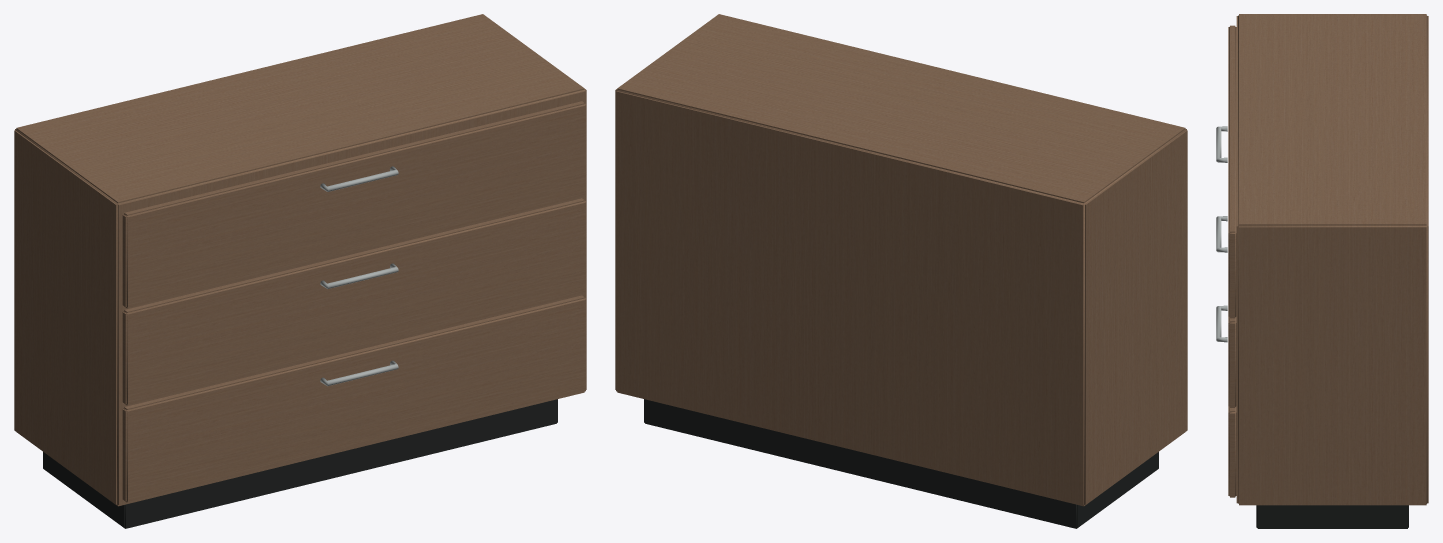
Rendered from industrial.dresser.gltf.
3 views of the same model, side by side, from view 1: azimuth 30°, elevation 25°; view 2: azimuth 150°, elevation 25°; view 3: azimuth 270°, elevation 25° (orthographic). The views are drawn at different scales.
Visible parts, largest first — view 1: industrial.dresser.carcass; view 2: industrial.dresser.carcass; view 3: industrial.dresser.carcass.
Part boxes in pixels (left/top/right/bottom): industrial.dresser.carcass: left=14, top=14, right=586, bottom=528; industrial.dresser.carcass: left=615, top=14, right=1187, bottom=528; industrial.dresser.carcass: left=1216, top=14, right=1428, bottom=528.
Bounding box in the file's own units: 1.15 × 0.79 × 0.487.
Materials: 3 (1 with a texture image).
